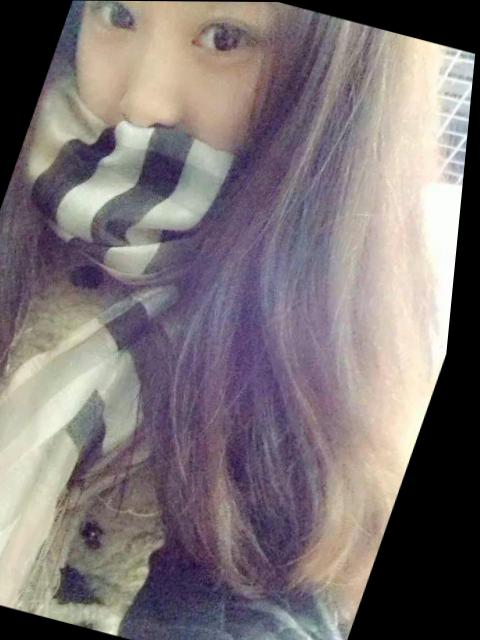WRONG: (14, 1, 310, 272)
